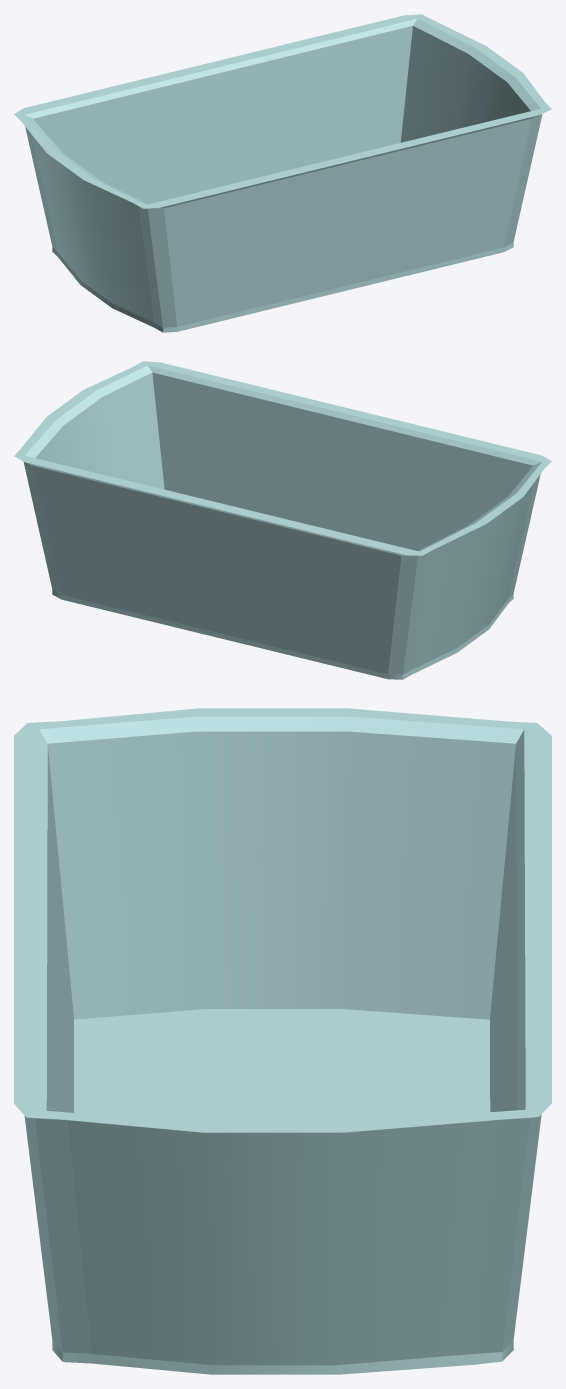
File: CZ_ClothesBasket01.fbx
The picture shows the model from 3 angles, top to bottom: view 1: azimuth 30°, elevation 25°; view 2: azimuth 150°, elevation 25°; view 3: azimuth 270°, elevation 25°; orthographic projection. The views are drawn at different scales.
Visible parts, largest first — view 1: CZ_ClothesBasket01; view 2: CZ_ClothesBasket01; view 3: CZ_ClothesBasket01.
Part boxes in pixels (<box>): CZ_ClothesBasket01: <box>14,14,551,332</box>; CZ_ClothesBasket01: <box>14,361,551,679</box>; CZ_ClothesBasket01: <box>14,708,551,1374</box>.
Bounding box in the file's own units: 0.746 × 0.2237 × 0.3999.
